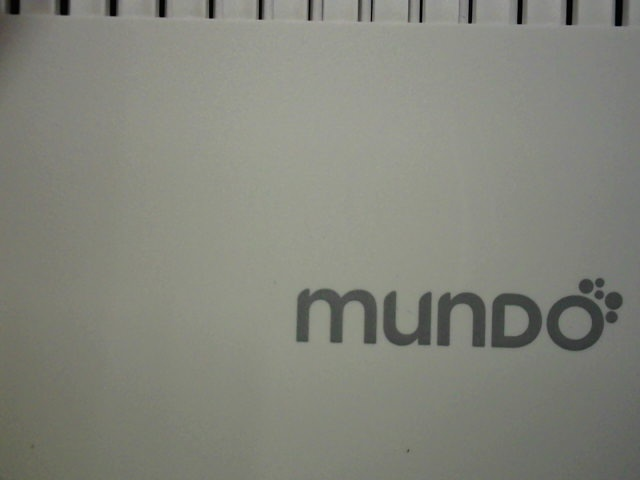BI_MUNDO: (290, 266, 626, 354)
